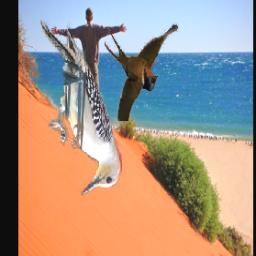Swallow: (105, 20, 180, 122)
Woodpecker: (40, 20, 125, 197)
